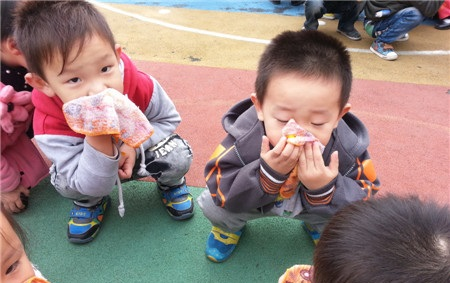face: (264, 80, 338, 161), (51, 38, 124, 120)
